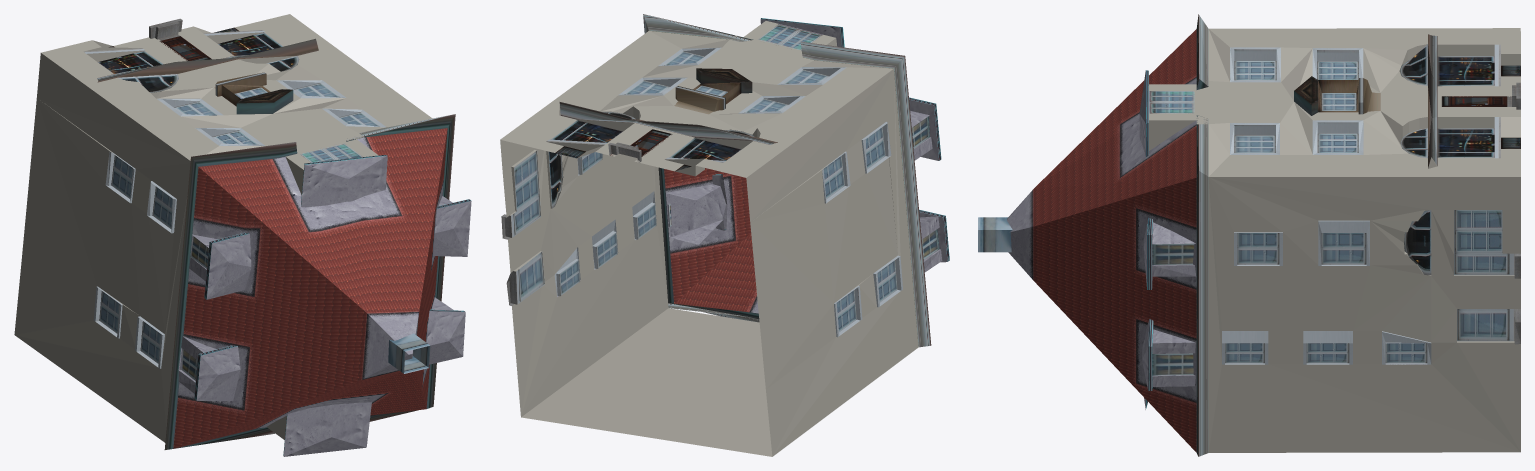
File: Nunne_11-origo.obj
3 renders of one model, left to right at view 1: azimuth 30°, elevation 25°; view 2: azimuth 150°, elevation 25°; view 3: azimuth 270°, elevation 25°, orthographic. The views are drawn at different scales.
Visible parts, largest first — view 1: Line001; view 2: Line001; view 3: Line001.
Boxes of the visible parts, left/top/right/bottom form: Line001: left=14, top=14, right=471, bottom=456; Line001: left=500, top=14, right=949, bottom=456; Line001: left=978, top=14, right=1520, bottom=456.
Bounding box in the file's own units: 13.81 × 14 × 21.5.
1 material, 1 textured.
